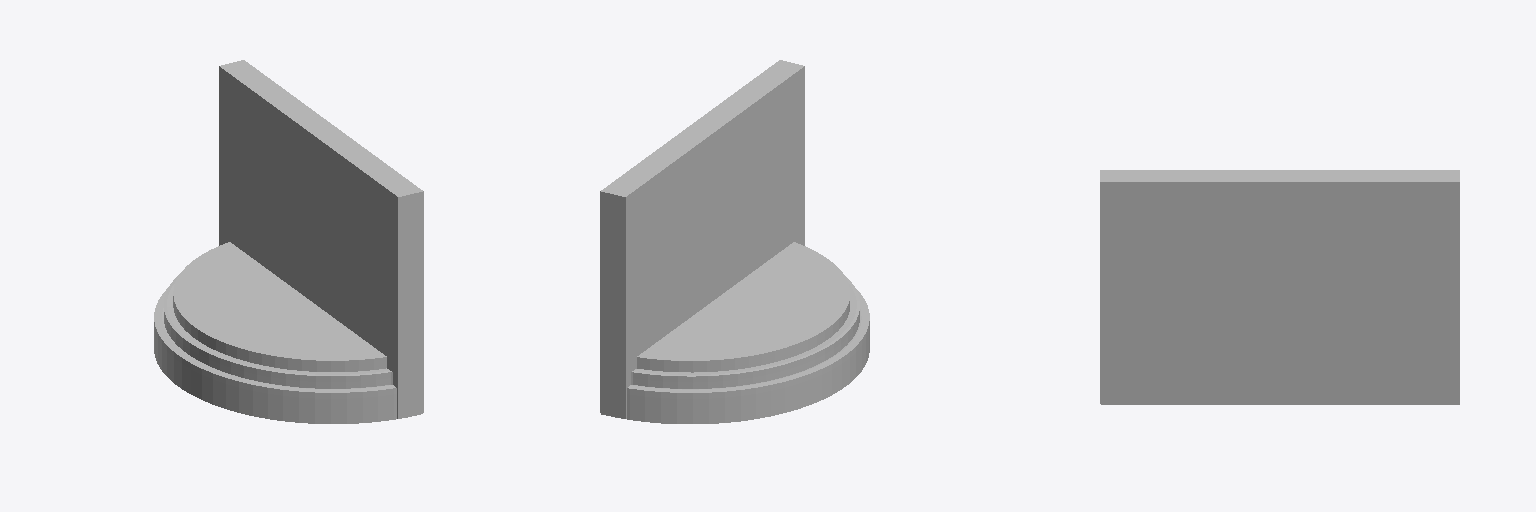
The model's file is palco.obj.
The picture shows the model from 3 angles: view 1: azimuth 30°, elevation 25°; view 2: azimuth 150°, elevation 25°; view 3: azimuth 270°, elevation 25°; orthographic projection.
Visible parts, largest first — view 1: Palco; view 2: Palco; view 3: Palco.
Part boxes in pixels (x1,y1,x2,y2): Palco: (154,60,423,423); Palco: (600,60,869,423); Palco: (1100,170,1459,404).
Bounding box in the file's own units: 10.02 × 13.72 × 20.03.